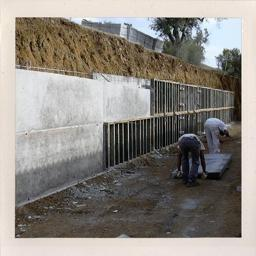no hat: (222, 123, 230, 146)
no vest: (179, 131, 206, 155), (204, 116, 224, 139)
